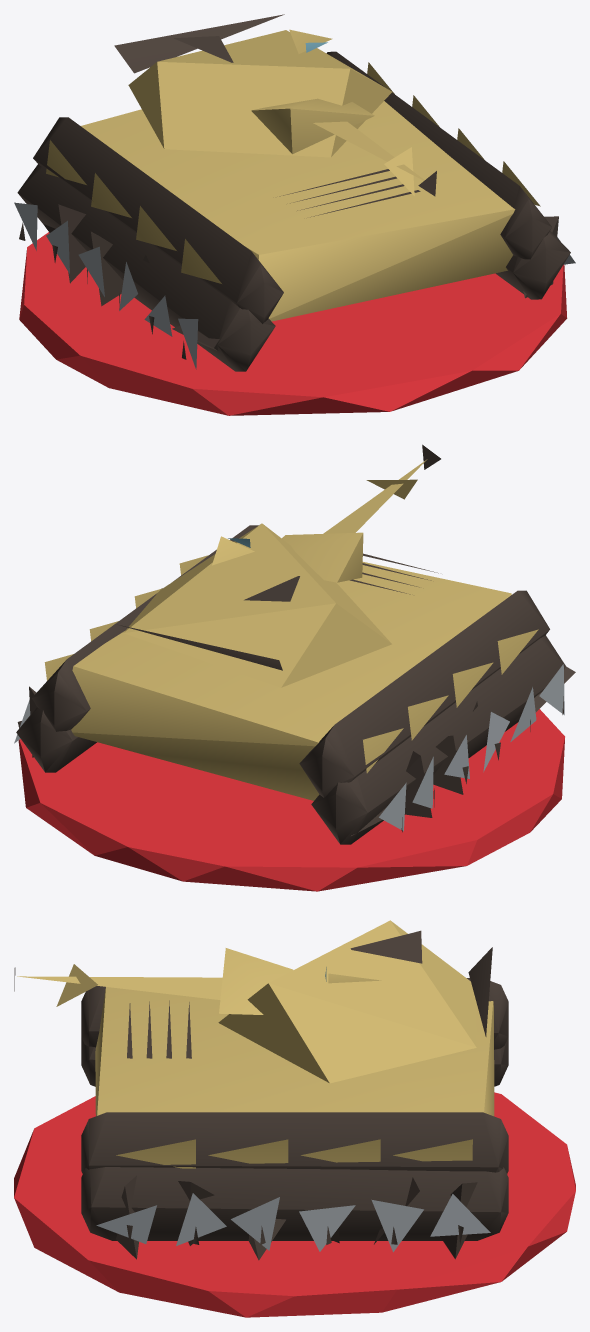
Rendered from israel_tank_lod1.glb.
3 views of the same model, one above another, from view 1: azimuth 30°, elevation 25°; view 2: azimuth 150°, elevation 25°; view 3: azimuth 270°, elevation 25° (orthographic). The views are drawn at different scales.
Visible parts, largest first — view 1: body_hull, base_pedestal; view 2: body_hull, base_pedestal; view 3: body_hull, base_pedestal.
Part boxes in pixels (<box>): body_hull: <box>14,14,575,371</box>; base_pedestal: <box>19,232,567,415</box>; body_hull: <box>14,444,575,844</box>; base_pedestal: <box>18,709,564,891</box>; body_hull: <box>14,920,508,1260</box>; base_pedestal: <box>14,1092,575,1317</box>.
Size of the model in its own units: 0.7791 by 0.3765 by 0.7771.
